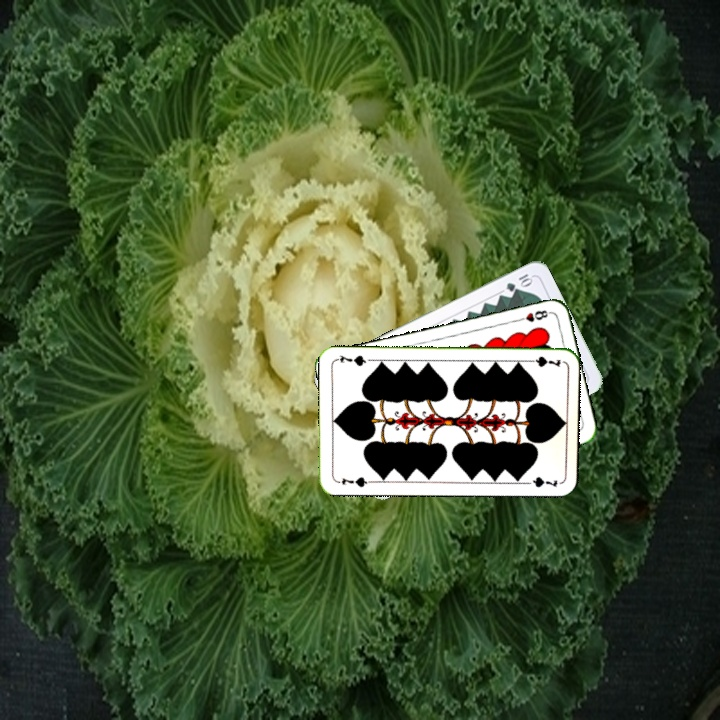G10: (502, 270, 535, 294)
G7: (522, 352, 563, 369), (333, 473, 374, 490)
H8: (513, 306, 553, 324)
